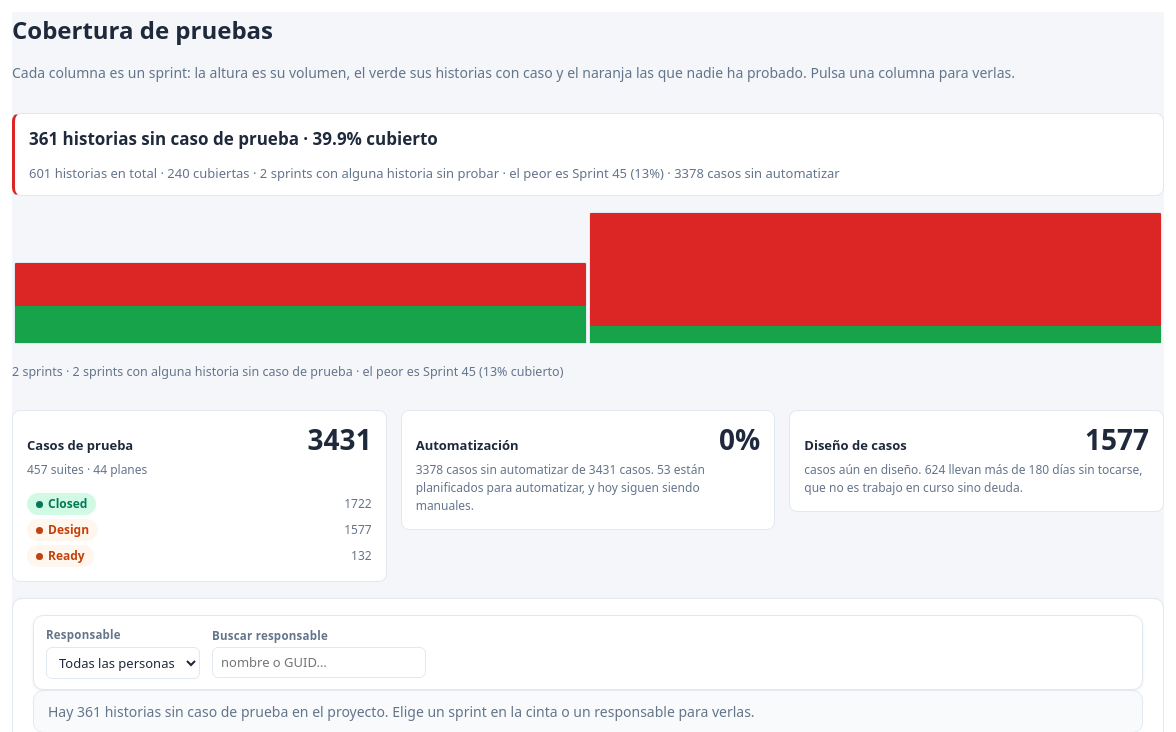
Test case: revelado progresivo › la lista aparece al elegir un sprint de la cinta
Click the button named "Sprint 45" at (876, 278), box [589,212,1162,344]
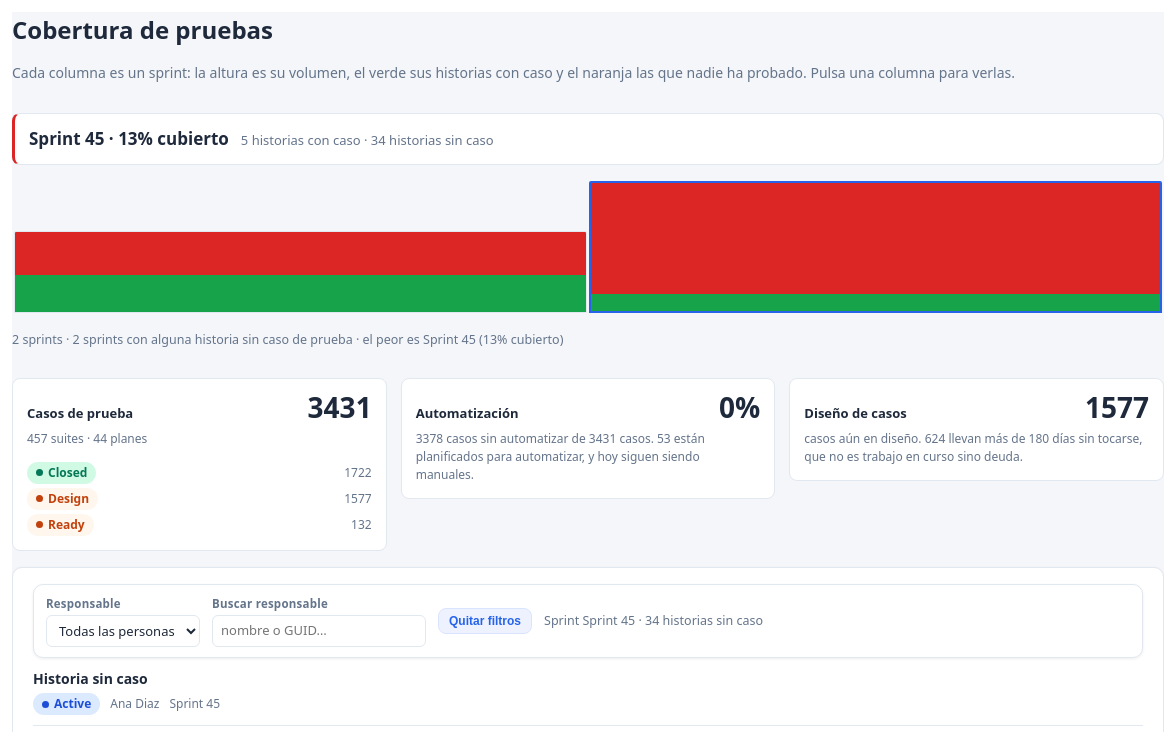
Now the link "Historia sin caso" is shown, box [33,669,148,688]
